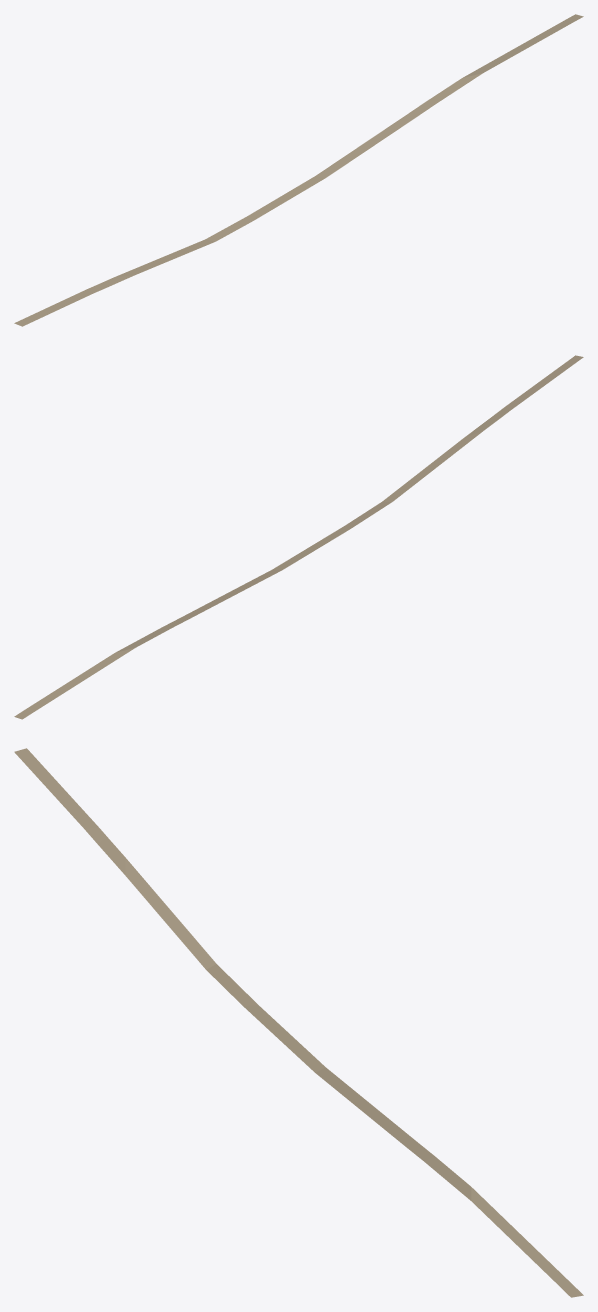
File: farm_14_2_track.glb
3 views of the same model, one above another, from view 1: azimuth 30°, elevation 25°; view 2: azimuth 210°, elevation 25°; view 3: azimuth 270°, elevation 25° (orthographic). The views are drawn at different scales.
Visible parts, largest first — view 1: geometry_0; view 2: geometry_0; view 3: geometry_0.
Part boxes in pixels (x1,y1,x2,y2): geometry_0: (14,14,583,326); geometry_0: (14,355,583,719); geometry_0: (14,748,583,1297).
Size of the model in its own units: 281 by 11.77 by 132.
